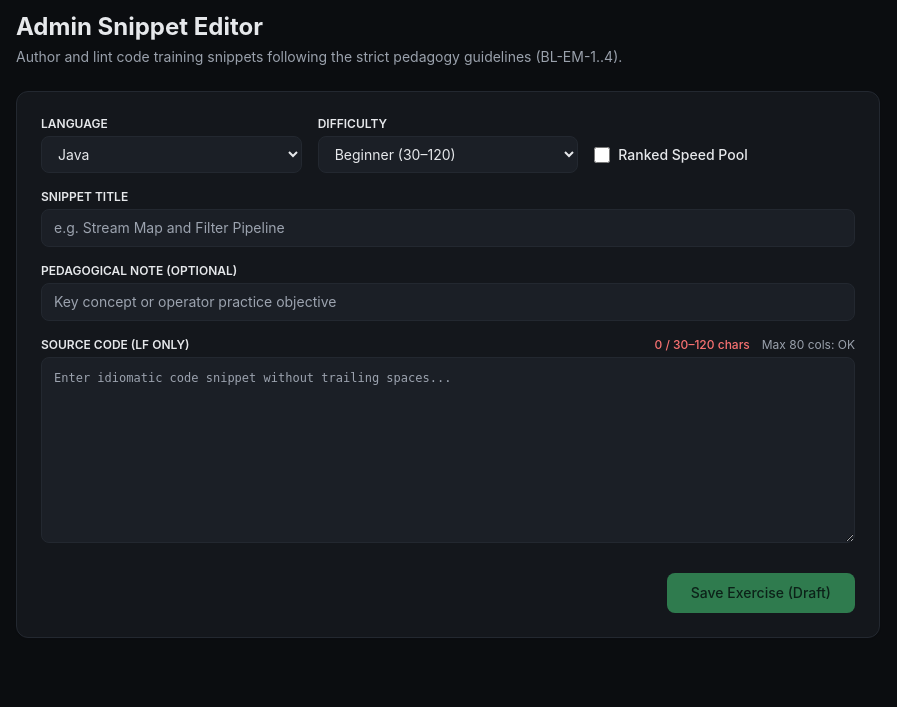
Test: SnippetEditorPage Component › detects forbidden syntax in PL/SQL snippets
Select "PL/SQL" in the dropdown labelled "Language" at (171, 154), box [41, 136, 302, 173]
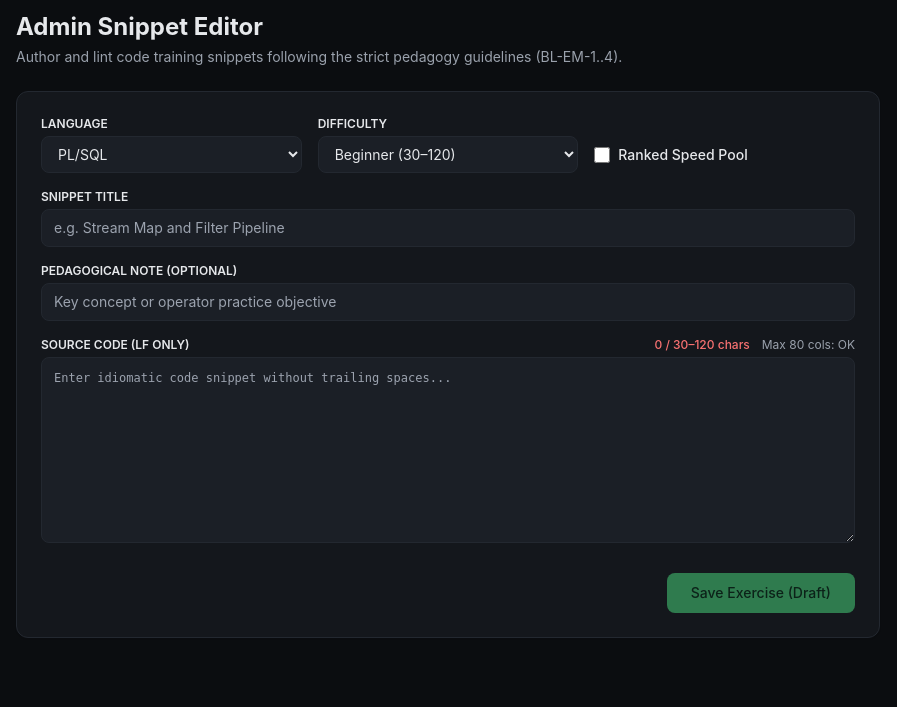
Type "CREATE FUNCTION foo() RETURNS void AS $$ BEGIN null; END; $$" into the text box labelled "Source Code (LF only)".
click(448, 450); type("CREATE FUNCTION foo() RETURNS void AS $$ BEGIN null; END; $$")  # box [41, 357, 855, 543]
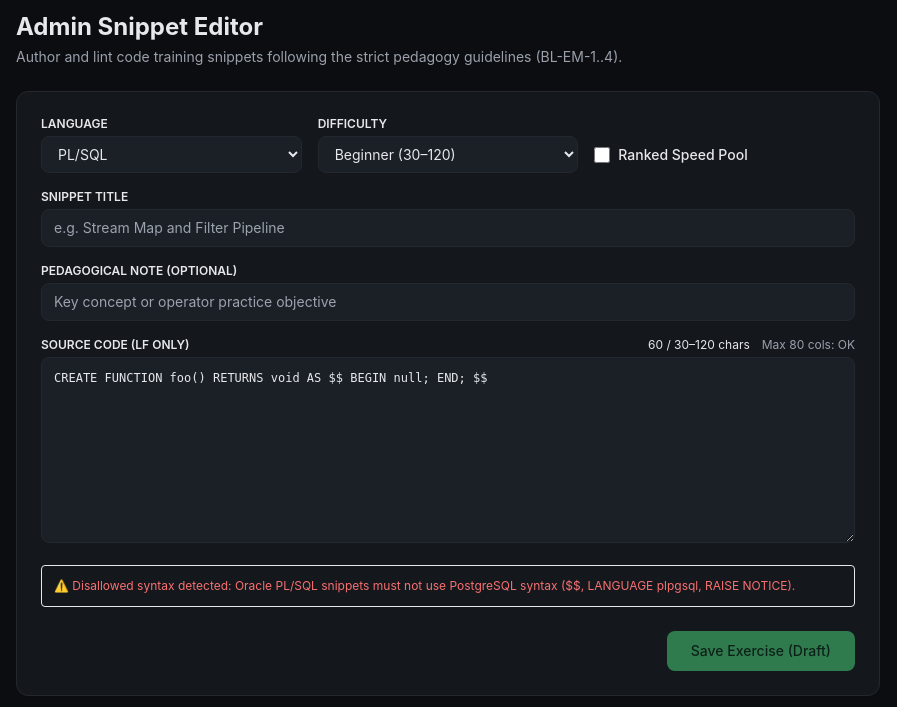
Expected: the button "Save Exercise (Draft)" is disabled, [667, 631, 855, 671]
Expected: the text "Disallowed syntax detected" is shown, [54, 578, 795, 593]
